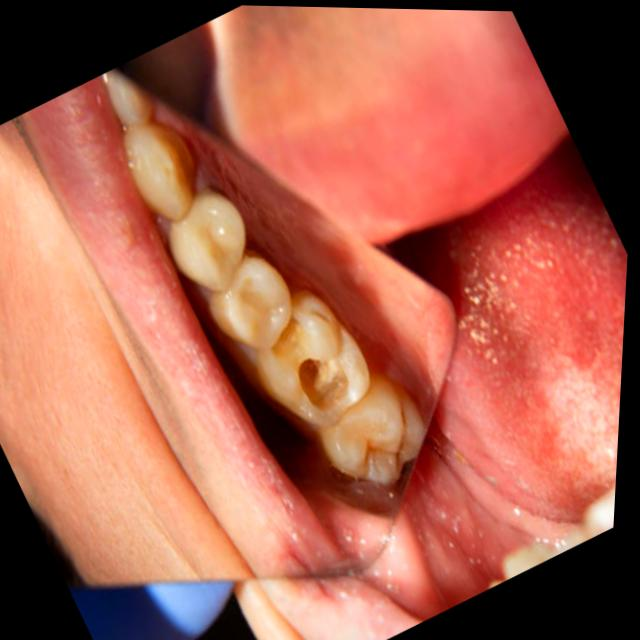cariess: (259, 291, 370, 426)
